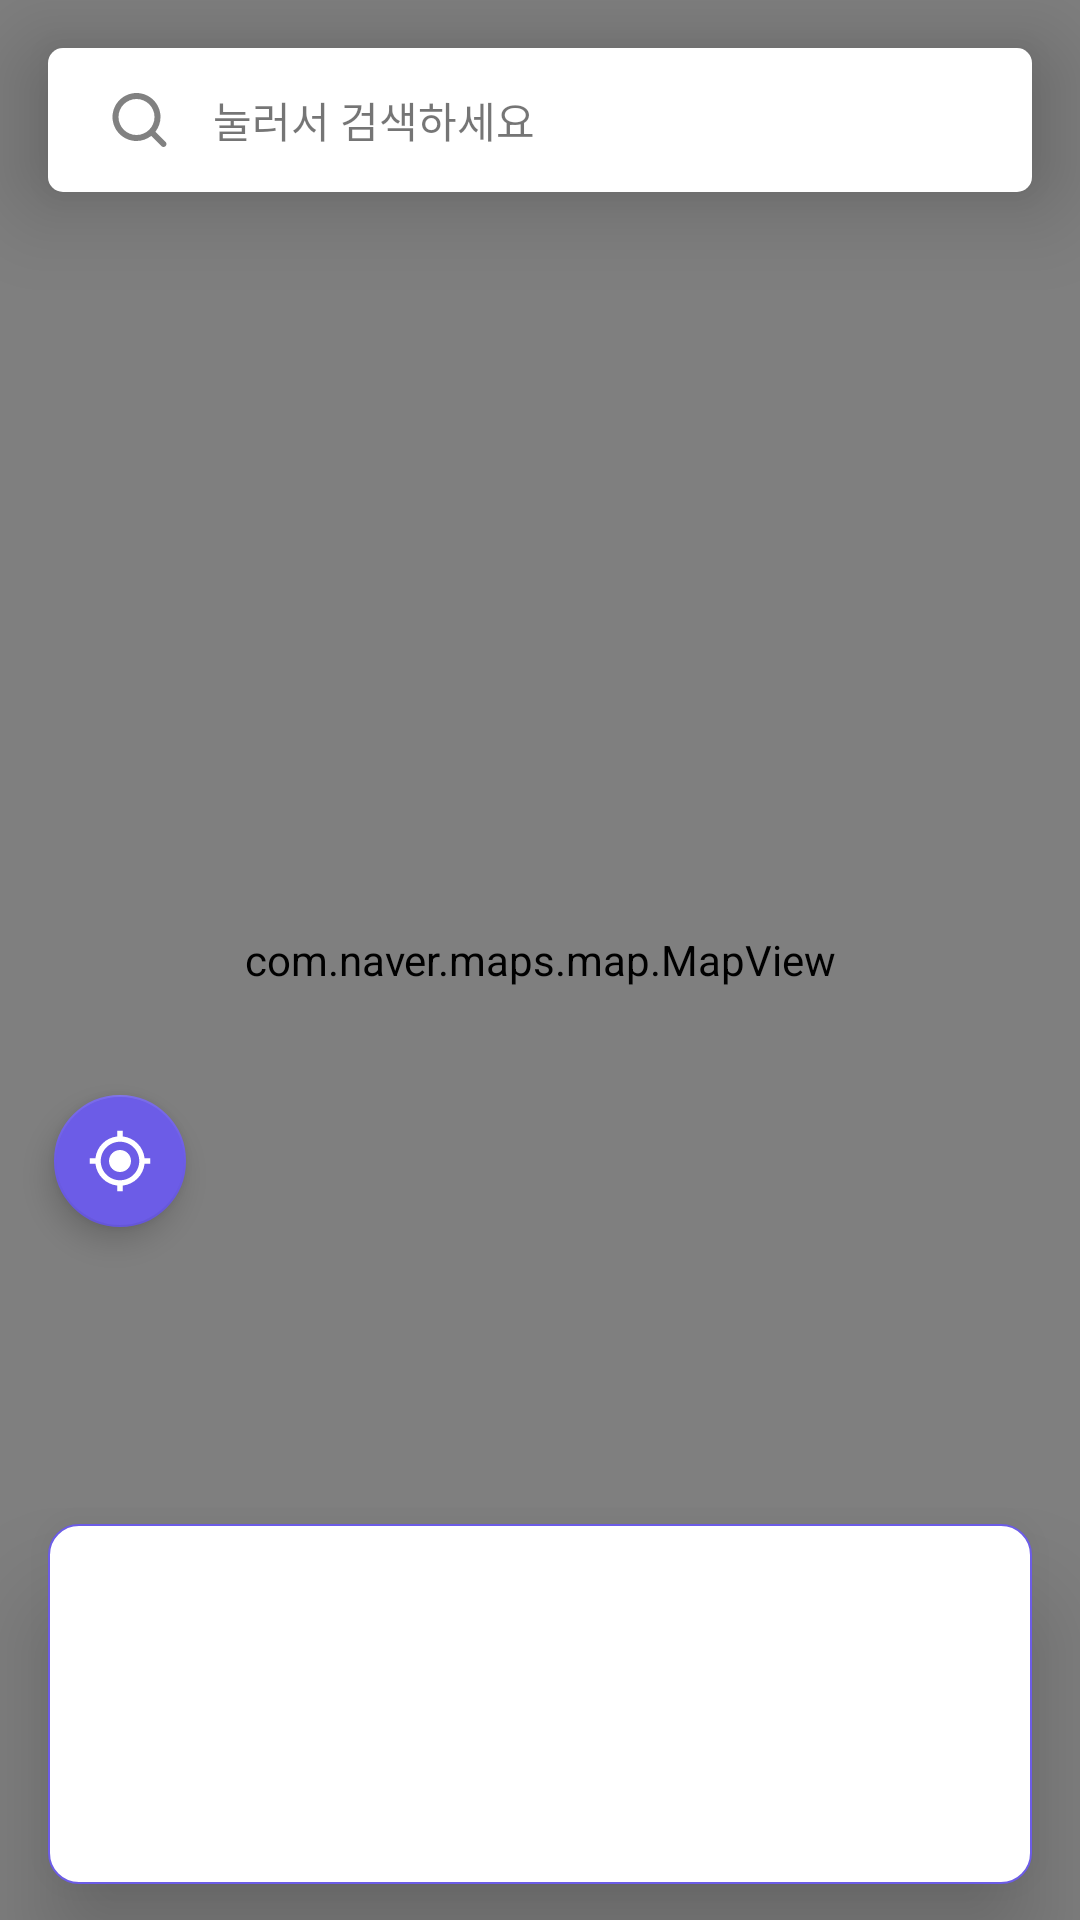

Where to tap for icons on this 1080×1920 app screen, as (x=x, y=y):
추적: (x=120, y=1161)
